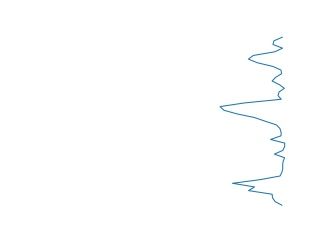underwaterNaturalLevee: (216, 35, 291, 207)
